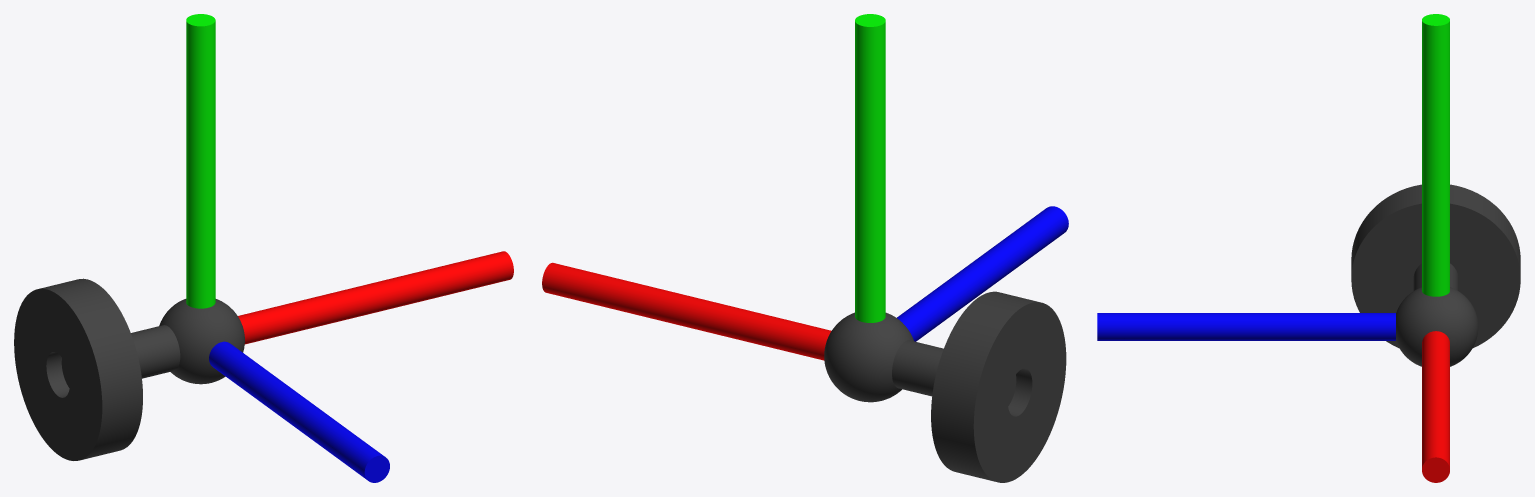
Rendered from arm_6.obj.
3 views of the same model, side by side, from view 1: azimuth 30°, elevation 25°; view 2: azimuth 150°, elevation 25°; view 3: azimuth 270°, elevation 25° (orthographic). The views are drawn at different scales.
Visible parts, largest first — view 1: Body1, Body6; view 2: Body1, Body6; view 3: Body1, Body6.
Part boxes in pixels (x1=…): Body1: x1=131, y1=14, x2=513, y2=482; Body6: x1=14, y1=278, x2=142, y2=460; Body1: x1=542, y1=14, x2=1068, y2=402; Body6: x1=931, y1=291, x2=1066, y2=482; Body1: x1=1097, y1=14, x2=1478, y2=482; Body6: x1=1351, y1=184, x2=1520, y2=348.
Size of the model in its own units: 0.088 by 0.075 by 0.075.
